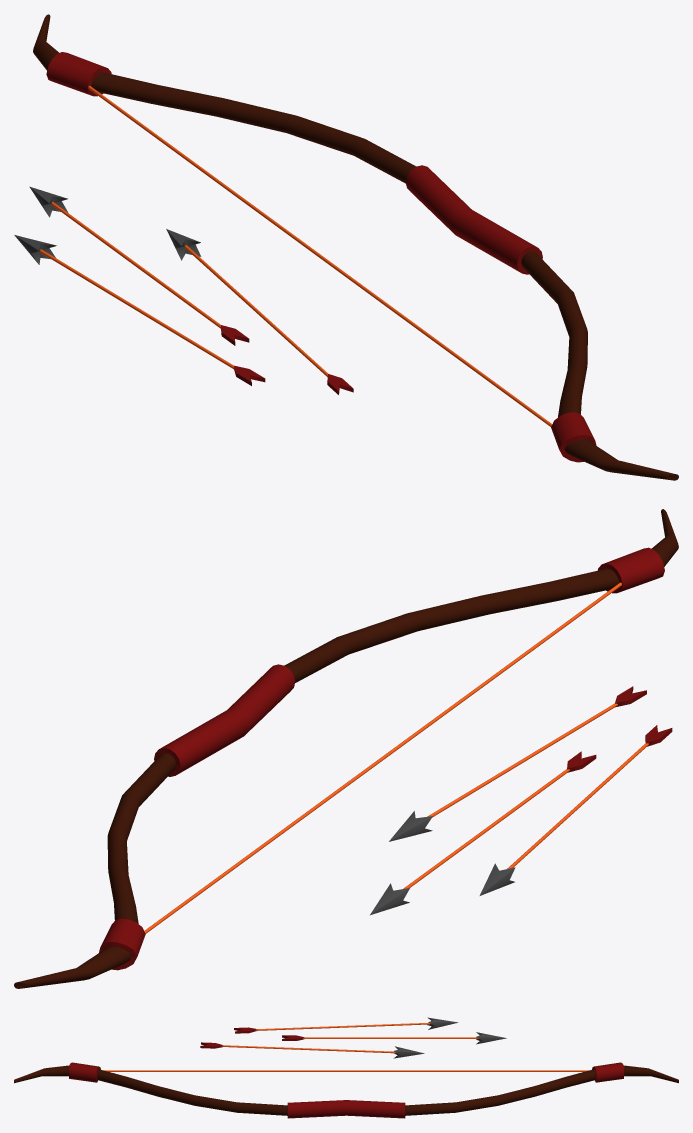
File: ArcoYFlecha.fbx
3 views of the same model, one above another, from view 1: azimuth 30°, elevation 25°; view 2: azimuth 150°, elevation 25°; view 3: azimuth 270°, elevation 25° (orthographic). The views are drawn at different scales.
Parts seen in each view (by area): view 1: Cylinder001; view 2: Cylinder001; view 3: Cylinder001.
Part boxes in pixels (<box>): Cylinder001: <box>14,14,678,480</box>; Cylinder001: <box>14,509,678,988</box>; Cylinder001: <box>14,1017,678,1118</box>.
Bounding box in the file's own units: 9.99 × 0.6895 × 29.13.
